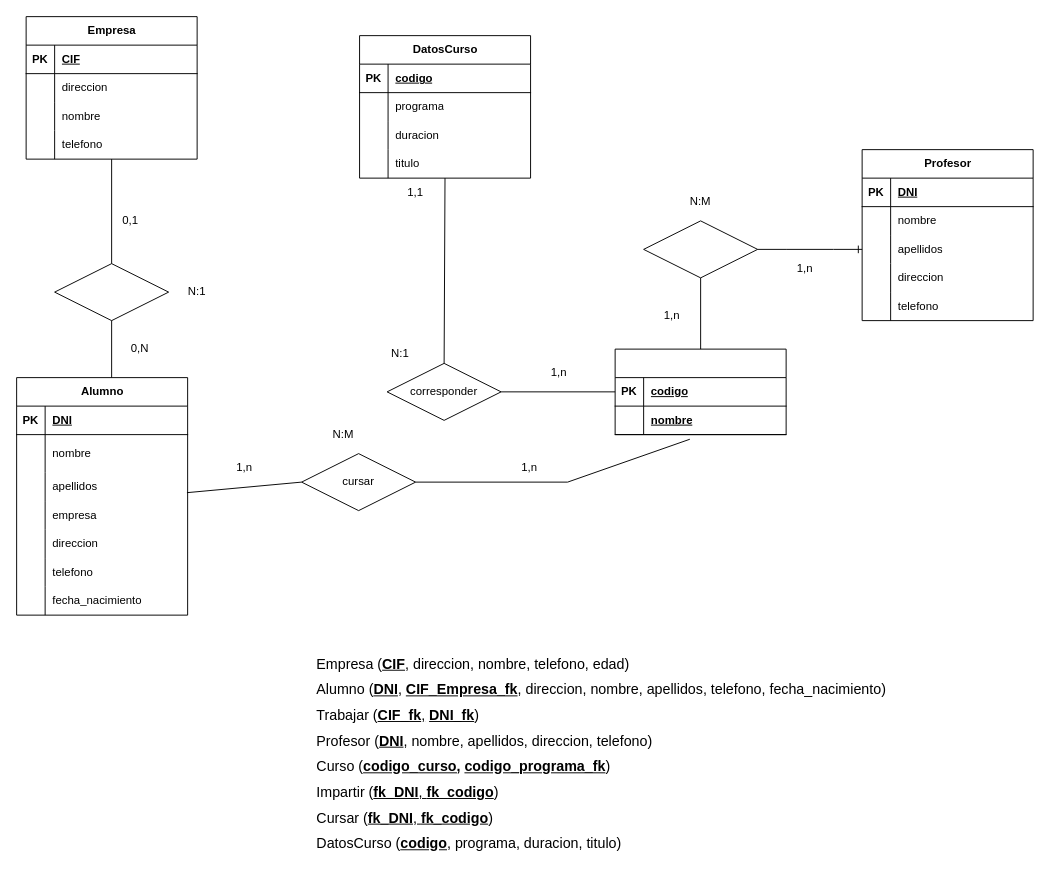
Some shapes in this 1050 by 888 pixel diagram are drawn without their labels. Each missing label, with the box of its shape:
Curso: (614, 348, 786, 435)
impartir: (643, 220, 758, 278)
trabajar: (54, 263, 169, 321)
